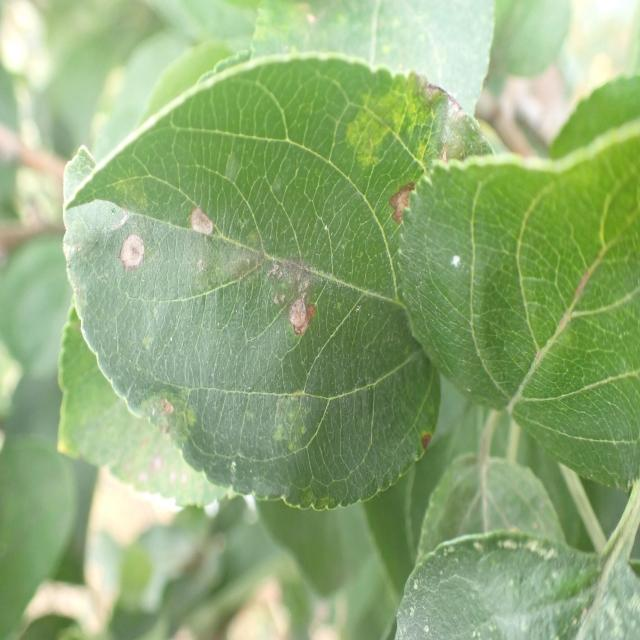frog-eye-leaf-spot: (63, 49, 496, 512)
